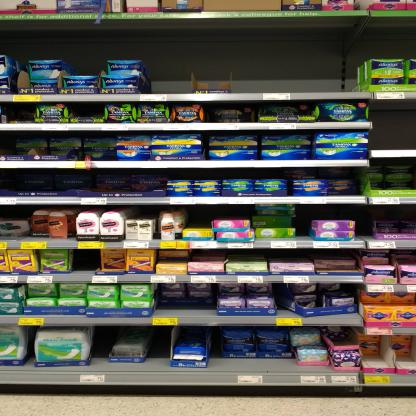Void: (157, 27, 355, 89), (18, 28, 142, 57), (0, 172, 166, 188), (370, 108, 409, 150), (209, 356, 300, 374), (201, 250, 318, 261), (373, 25, 410, 54), (362, 208, 384, 239), (70, 252, 102, 272), (93, 327, 108, 361), (187, 208, 210, 227), (157, 331, 169, 361), (225, 205, 247, 215)
